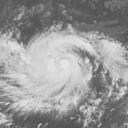cyclone: (14, 32, 99, 112)
